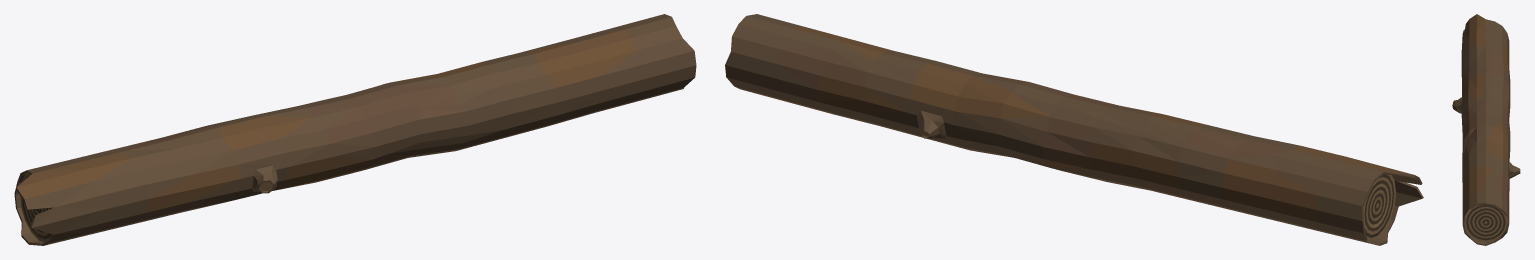
File: SM_Log.glb
3 views of the same model, side by side, from view 1: azimuth 30°, elevation 25°; view 2: azimuth 150°, elevation 25°; view 3: azimuth 270°, elevation 25° (orthographic). The views are drawn at different scales.
Visible parts, largest first — view 1: SM_Log; view 2: SM_Log; view 3: SM_Log.
Part boxes in pixels (x1,y1,x2,y2): SM_Log: [14, 14, 696, 245]; SM_Log: [725, 14, 1423, 245]; SM_Log: [1452, 14, 1520, 245].
Size of the model in its own units: 2.56 by 0.281 by 0.3837.
Materials: 1 (1 with a texture image).
